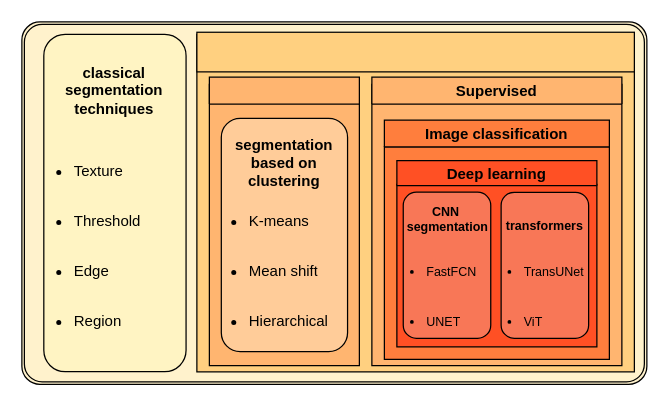
Image size: 669x406. Some labels were removed from this diagram. Each missing label, with the centre of its shape:
Machine Learning: (x=415, y=51)
Unsupervised: (x=283, y=90)
